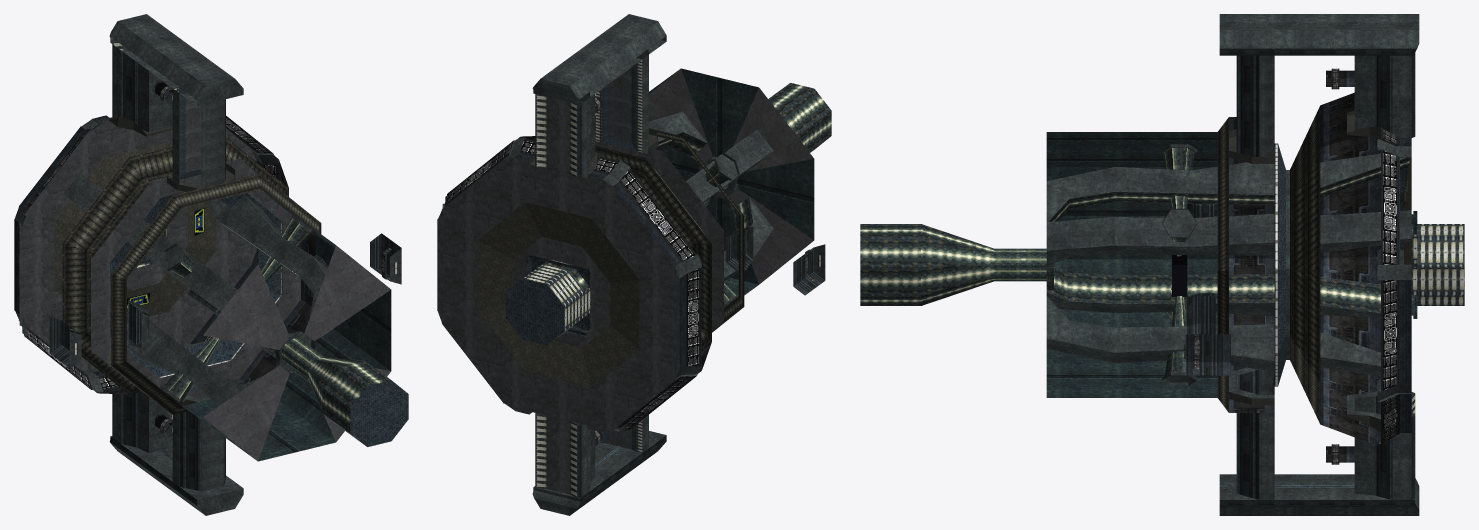
Rendered from DM-Mandel.obj.
3 renders of one model, left to right at view 1: azimuth 30°, elevation 25°; view 2: azimuth 150°, elevation 25°; view 3: azimuth 270°, elevation 25°, orthographic. The views are drawn at different scales.
Parts seen in each view (by area): view 1: UTtech1_Base_bmetalbase, UTtech1_Floor_bmFloor3, Starship_Wall_sh_wl3, UTtech1_Floor_bmFloor2, UTtech1_Wall_bmetalw4copy, UTtech1_Wall_bmwall3, Starship_Floor_sh_bs8, Starship_Floor_sh_bs7, Starship_Ceiling_sh_cels, Starship_Ceiling_sh_cel3, FractalFX_KScan2, UTtech1_Wall_bmdirtyt (+3 smaller); view 2: UTtech1_Floor_bmFloor3, UTtech1_Base_bmetalbase, Starship_Floor_sh_bs7, UTtech1_Wall_bmetalw4copy, UTtech1_Floor_bmFloor2, FractalFX_KScan2, Starship_Light_sh_el, Starship_Wall_sh_wl3, Starship_Floor_sh_bs8, Starship_Ceiling_sh_cels, UTtech1_Wall_bmwall3, UTtech1_Wall_bmdirtyt (+2 smaller); view 3: UTtech1_Base_bmetalbase, Starship_Ceiling_sh_cels, UTtech1_Wall_bmetalw4copy, UTtech1_Wall_bmwall3, UTtech1_Wall_bmdirtyt, Starship_Wall_sh_wl3, FractalFX_KScan2, Starship_Light_sh_el, Starship_Ceiling_sh_cel3, UTtech1_Wall_bmTechWall2, Starship_Floor_sh_bs8, Starship_Base_basic2a (+1 smaller).
Part boxes in pixels (x1,y1,x2,y2): UTtech1_Base_bmetalbase: (14,14,401,515); UTtech1_Floor_bmFloor3: (19,46,300,399); Starship_Wall_sh_wl3: (62,138,321,414); UTtech1_Floor_bmFloor2: (203,245,390,460); UTtech1_Wall_bmetalw4copy: (182,192,391,461); UTtech1_Wall_bmwall3: (49,42,401,505); Starship_Floor_sh_bs8: (110,87,408,446); Starship_Floor_sh_bs7: (54,142,216,316); Starship_Ceiling_sh_cels: (187,220,390,444); Starship_Ceiling_sh_cel3: (163,218,324,401); FractalFX_KScan2: (19,86,391,434); UTtech1_Wall_bmdirtyt: (14,115,288,394); UTtech1_Floor_bmFloor3: (437,67,723,494); UTtech1_Base_bmetalbase: (437,14,825,515); Starship_Floor_sh_bs7: (477,202,639,387); UTtech1_Wall_bmetalw4copy: (563,68,814,295); UTtech1_Floor_bmFloor2: (649,69,813,284); FractalFX_KScan2: (447,97,815,445); Starship_Light_sh_el: (523,60,642,497); Starship_Wall_sh_wl3: (546,115,744,349); Starship_Floor_sh_bs8: (505,64,636,451); Starship_Ceiling_sh_cels: (570,83,831,290); UTtech1_Wall_bmwall3: (535,49,824,504); UTtech1_Wall_bmdirtyt: (515,136,711,427); UTtech1_Base_bmetalbase: (1046,14,1419,515); Starship_Ceiling_sh_cels: (860,157,1410,312); UTtech1_Wall_bmetalw4copy: (1046,132,1217,397); UTtech1_Wall_bmwall3: (1185,48,1416,506); UTtech1_Wall_bmdirtyt: (1320,92,1411,445); Starship_Wall_sh_wl3: (1217,106,1320,423); FractalFX_KScan2: (1193,68,1399,464); Starship_Light_sh_el: (1411,224,1464,415); Starship_Ceiling_sh_cel3: (994,148,1194,375); UTtech1_Wall_bmTechWall2: (1229,70,1354,462); Starship_Floor_sh_bs8: (1272,144,1285,394); Starship_Base_basic2a: (1229,110,1414,432).
Bounding box in the file's own units: 34.75 × 42.98 × 48.46.
